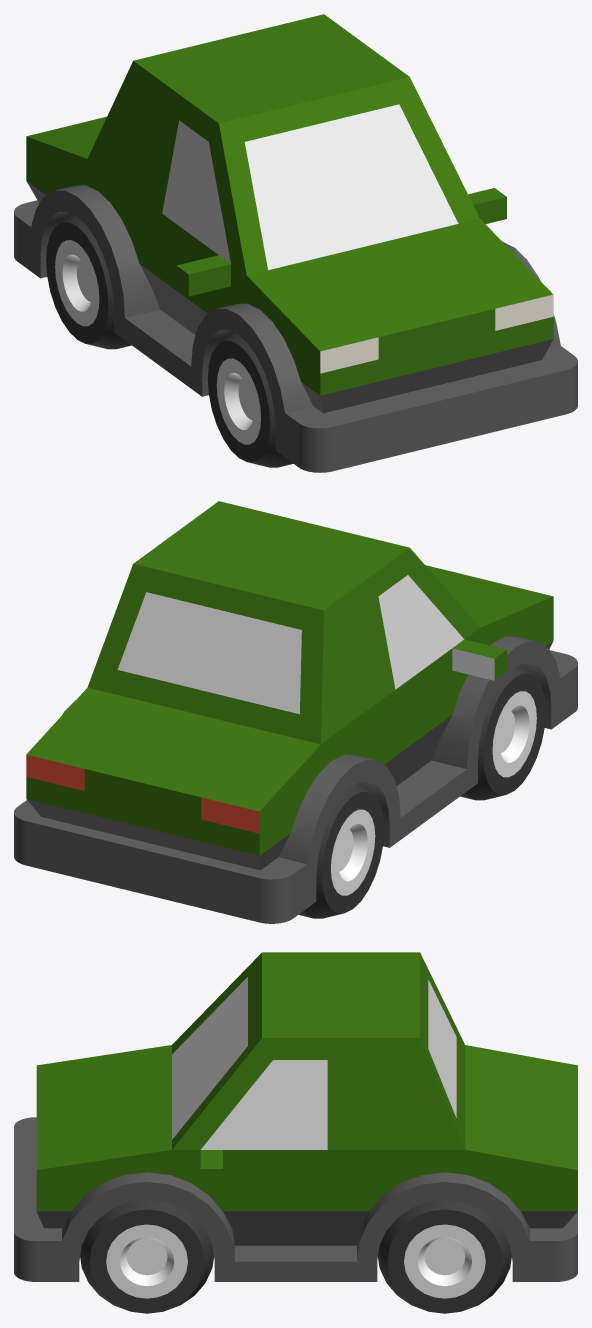
Rendered from sedan_green.fbx.
The picture shows the model from 3 angles, top to bottom: view 1: azimuth 30°, elevation 25°; view 2: azimuth 150°, elevation 25°; view 3: azimuth 270°, elevation 25°; orthographic projection. The views are drawn at different scales.
Parts seen in each view (by area): view 1: sedan; view 2: sedan; view 3: sedan.
Boxes of the visible parts, bbox=[...] form: sedan: bbox=[14, 14, 577, 472]; sedan: bbox=[14, 501, 577, 923]; sedan: bbox=[14, 952, 577, 1313].
Bounding box in the file's own units: 11.25 × 9.75 × 18.75.
